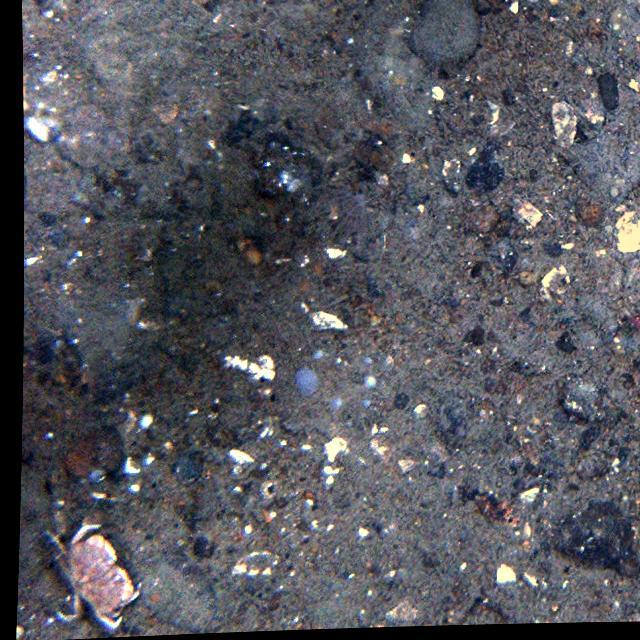crab: (45, 522, 138, 630)
